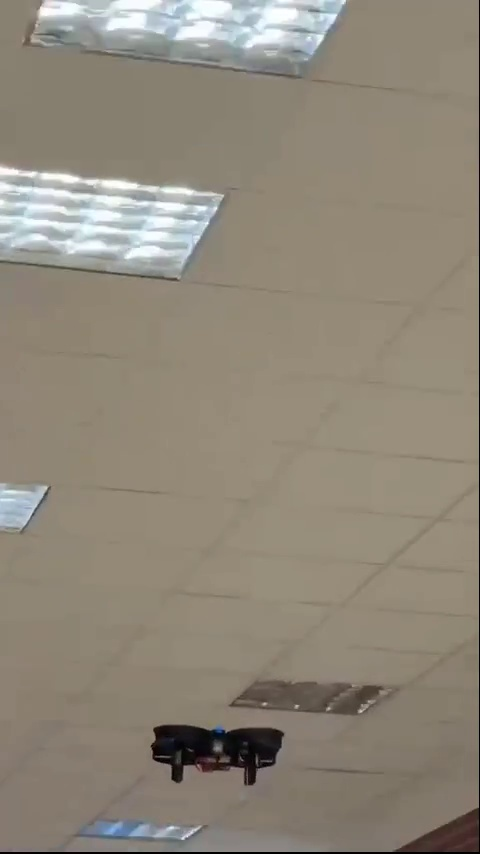drone: (149, 722, 285, 782)
